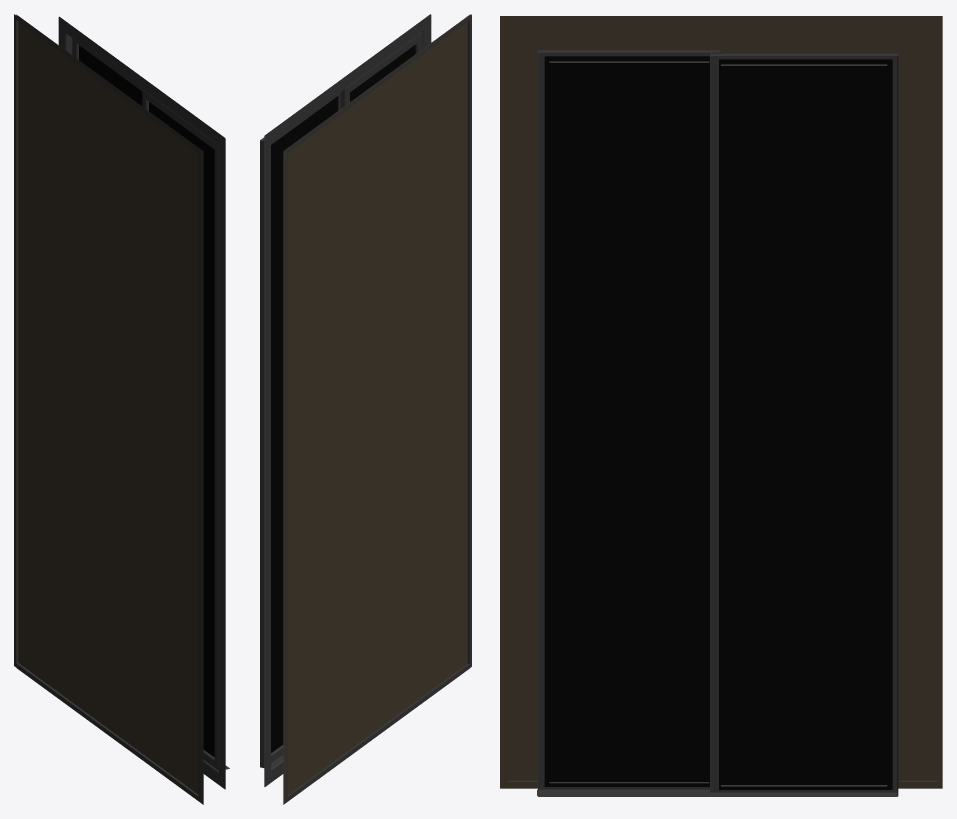
File: SM_WindowCenter_01_Build05.fbx
3 renders of one model, left to right at view 1: azimuth 30°, elevation 25°; view 2: azimuth 150°, elevation 25°; view 3: azimuth 270°, elevation 25°, orthographic. The views are drawn at different scales.
Visible parts, largest first — view 1: SM_WindowCenter_01_Build05_LOD0; view 2: SM_WindowCenter_01_Build05_LOD0; view 3: SM_WindowCenter_01_Build05_LOD0.
Boxes of the visible parts, box(x1,y1,x2,y2) form: SM_WindowCenter_01_Build05_LOD0: box(14, 14, 229, 804); SM_WindowCenter_01_Build05_LOD0: box(260, 14, 471, 804); SM_WindowCenter_01_Build05_LOD0: box(500, 16, 942, 796).
Size of the model in its own units: 22.11 by 159 by 306.
